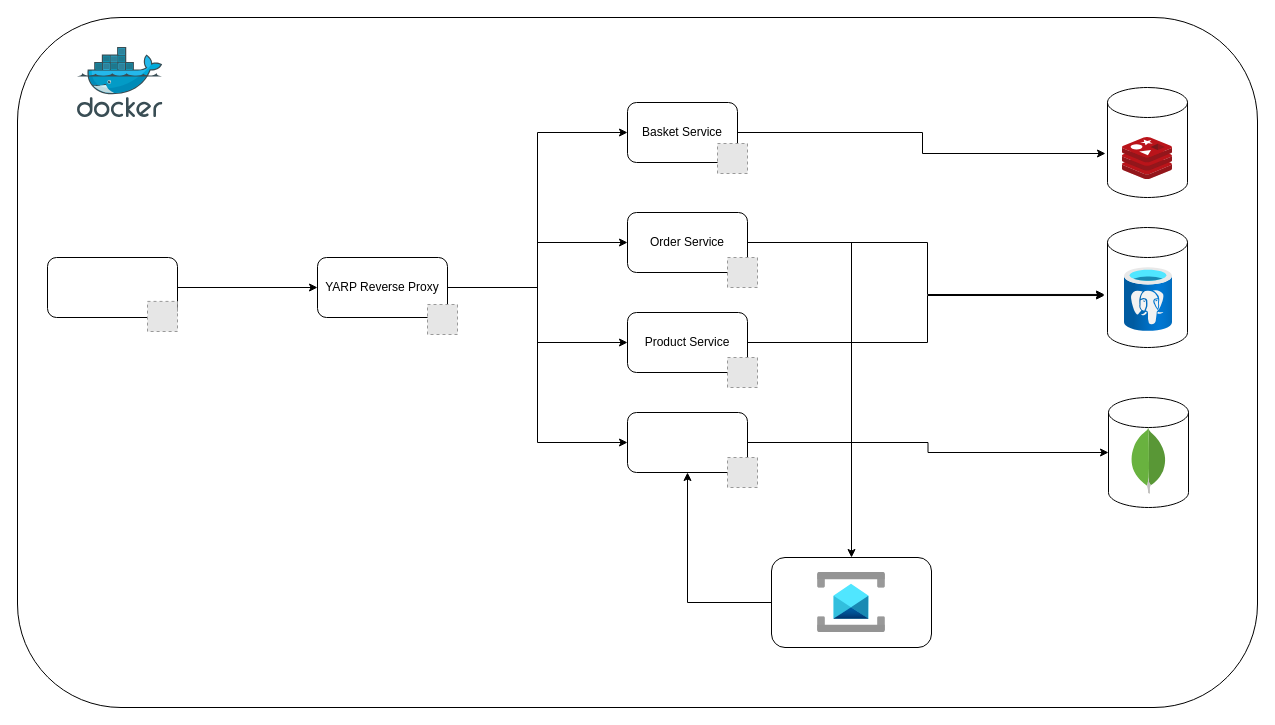
Some shapes in this 1275 by 725 pixel diagram are drawn without their labels. Grey dashed boxes stand in for pictures. Here are the shapes that lost their labels. From the top down, the box of each, then its label:
(46, 256, 178, 318): Website
(626, 412, 748, 472): Report Service
